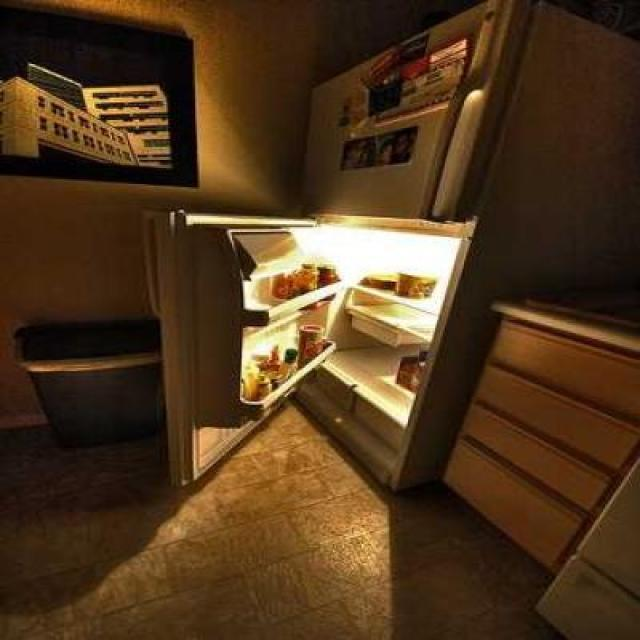refrigerator: (170, 1, 540, 505)
